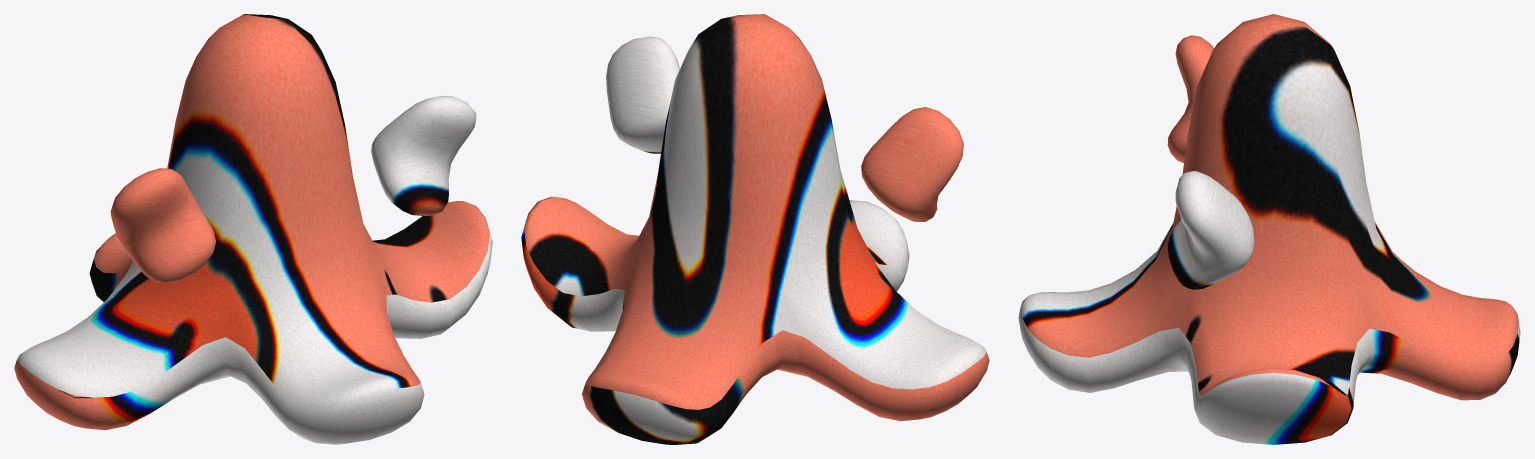
File: hot dog.fbx
3 views of the same model, side by side, from view 1: azimuth 30°, elevation 25°; view 2: azimuth 150°, elevation 25°; view 3: azimuth 270°, elevation 25° (orthographic). The views are drawn at different scales.
Visible parts, largest first — view 1: body, hand_R, hand_L; view 2: body, hand_R, hand_L; view 3: body, hand_L, hand_R.
Part boxes in pixels (left/top/right/bottom): body: left=14, top=14, right=492, bottom=444; hand_R: left=110, top=168, right=215, bottom=283; hand_L: left=371, top=95, right=476, bottom=215; body: left=521, top=14, right=989, bottom=444; hand_R: left=861, top=107, right=963, bottom=221; hand_L: left=606, top=36, right=679, bottom=153; body: left=1018, top=14, right=1520, bottom=444; hand_L: left=1167, top=171, right=1254, bottom=289; hand_R: left=1167, top=35, right=1213, bottom=163.
Bounding box in the file's own units: 3.47 × 2.64 × 3.29.
